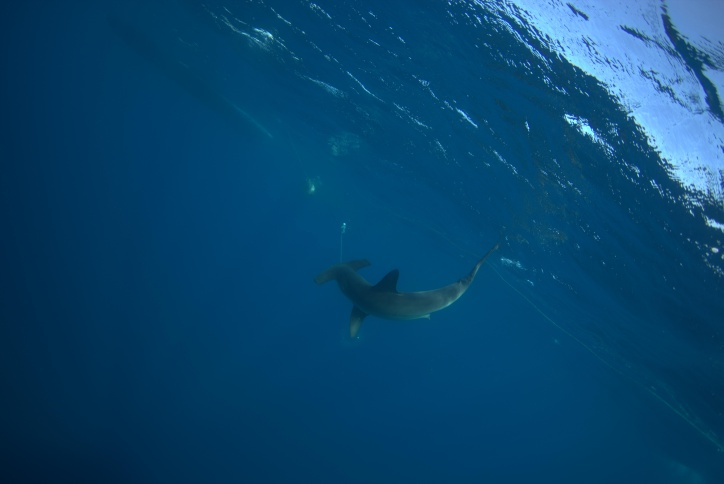Hammer: (266, 222, 527, 360)
